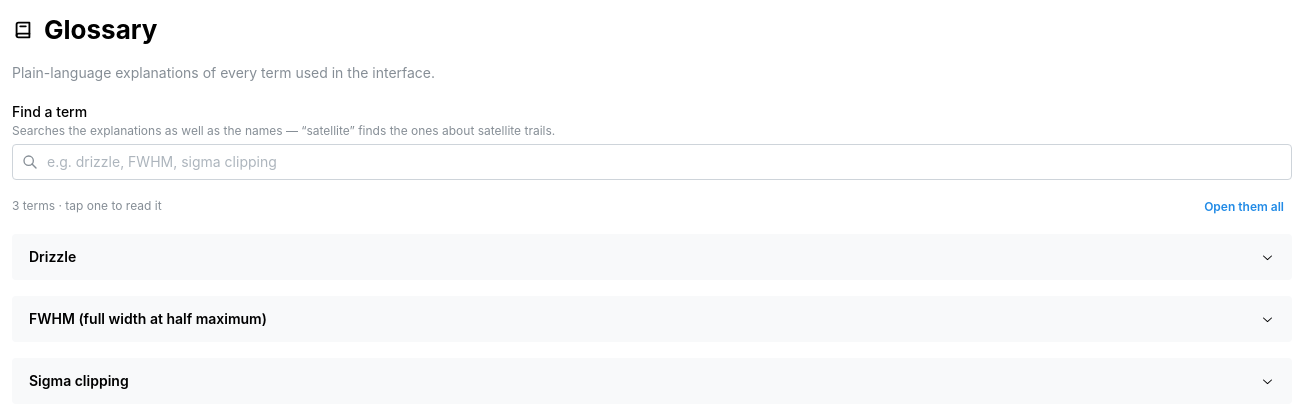
it: Glossary page › searches the explanations, not just the names
This screenshot has width=1304, height=406.
Check: the text "Drizzle" is shown, box 29,248 -> 76,265
In the field with test id "glossary-search": (652, 162) 12,144 -> 1292,180, type "satellite"
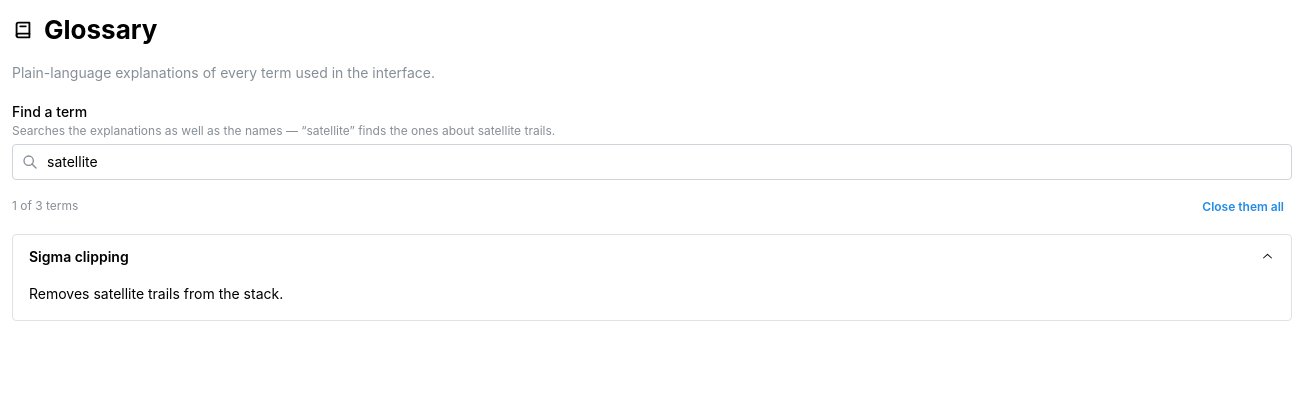
Check: the text "Sigma clipping" is shown, box 29,248 -> 129,265
Check: the button "Drizzle" is gone
